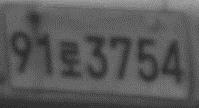1: (36, 32, 53, 75)
3: (85, 34, 108, 80)
4: (158, 40, 186, 85)
5: (136, 37, 160, 82)
7: (108, 36, 132, 81)
9: (10, 30, 32, 75)
로: (57, 40, 84, 79)
